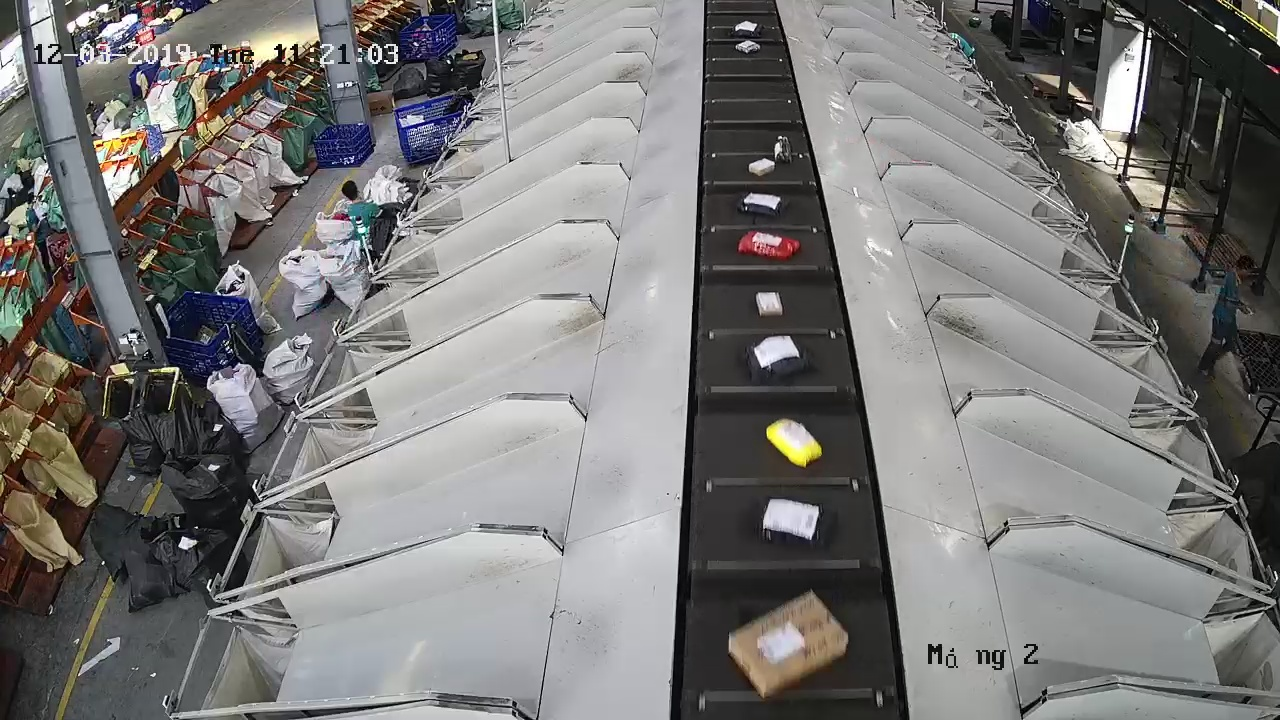parcel: (726, 586, 850, 700), (756, 496, 825, 550), (743, 333, 811, 384), (764, 416, 824, 469), (736, 228, 802, 262), (736, 190, 784, 218), (755, 290, 785, 319)
